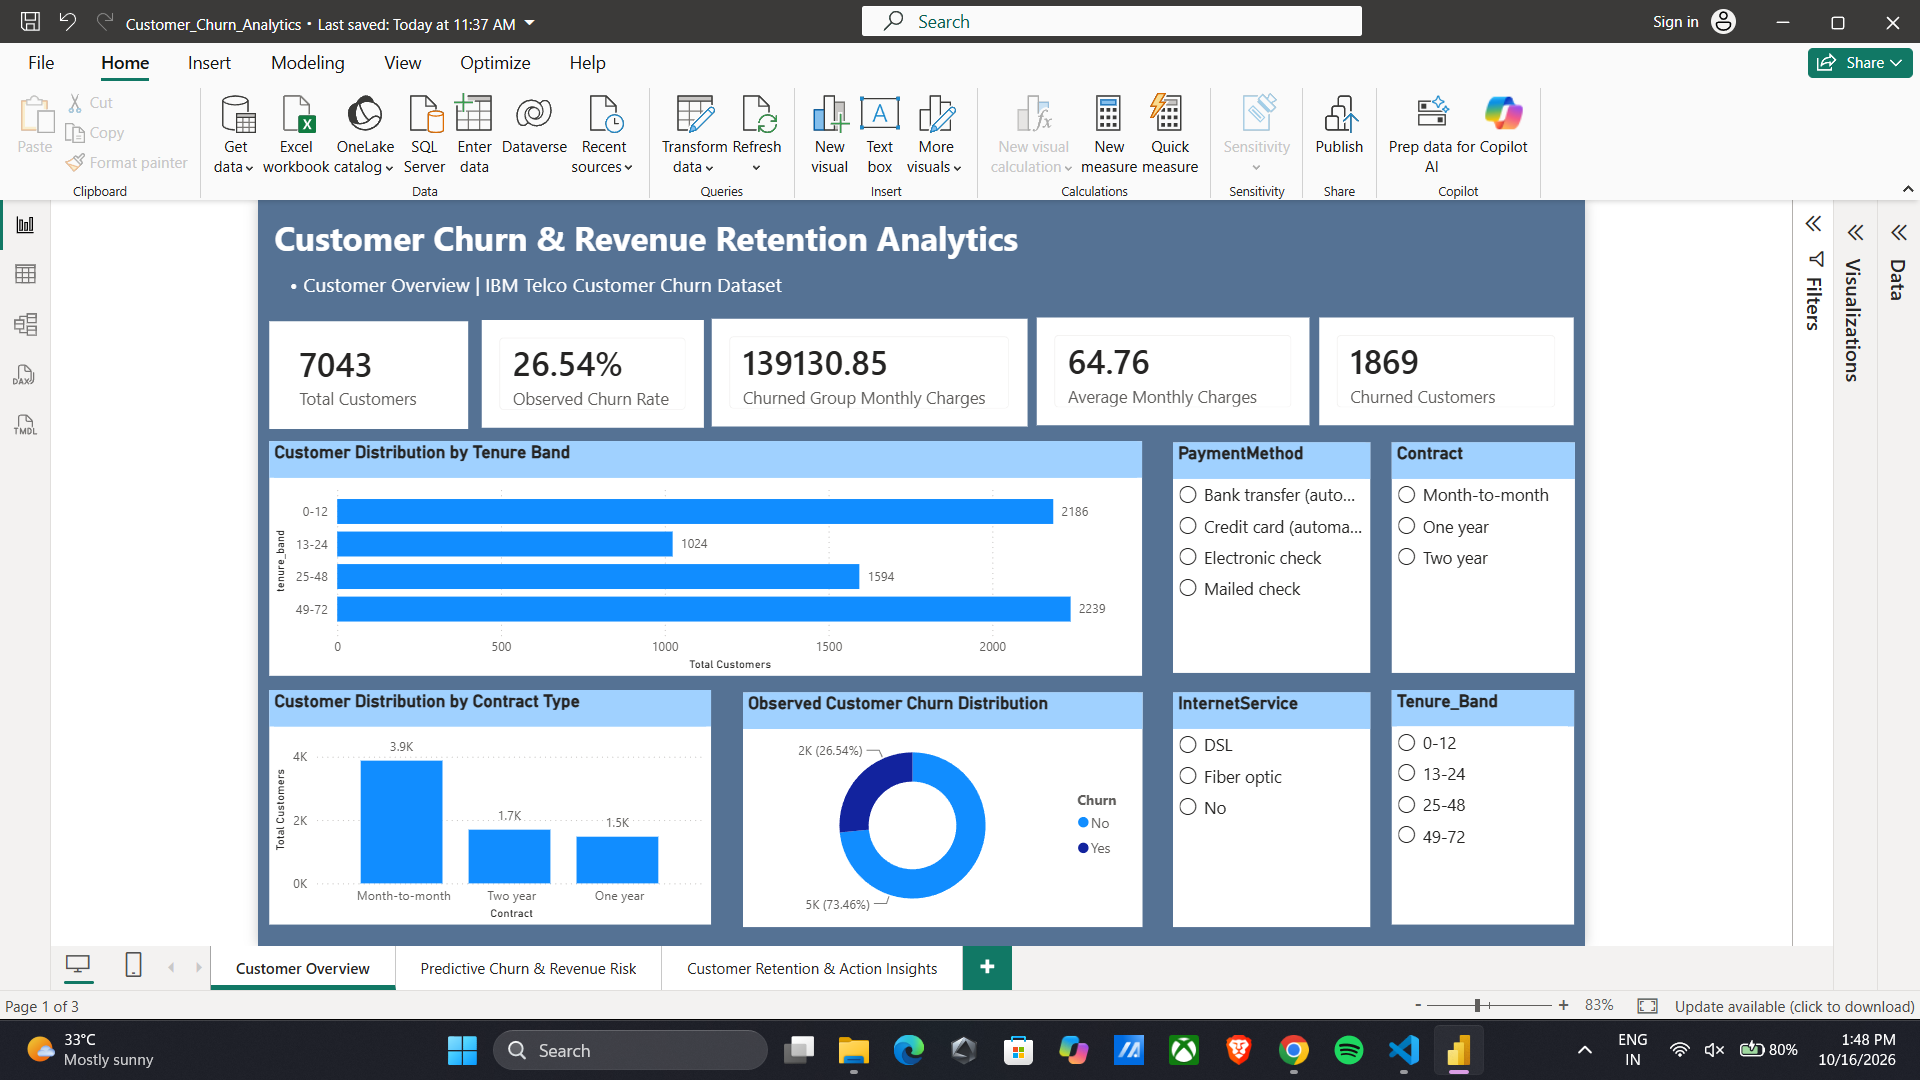

This screenshot's page, from the dashboard's own definition file:
{"tool":"powerbi","page":{"name":"Customer Overview","canvas":[1280,720],"ordinal":0},"visuals":[{"type":"cardVisual","fields":{"Data":["customers_clean.Observed Churned Customers"]},"box":[1024.3,113.4,245.6,104.3],"z":0},{"type":"cardVisual","fields":{"Data":["customers_clean.Observed Churn Rate"]},"box":[216,115.8,214.1,104.3],"z":1000},{"type":"cardVisual","fields":{"Data":["customers_clean.Average Monthly Charges"]},"box":[751.6,113.4,263.5,104.3],"z":2000},{"type":"cardVisual","fields":{"Data":["customers_clean.Churned Group Monthly Charges"]},"box":[437.9,114.6,304.6,104.3],"z":3000},{"type":"donutChart","title":"Observed Customer Churn Distribution","fields":{"Category":["customers_clean.Churn"],"Y":["customers_clean.Total Customers"]},"box":[467.9,474.8,385.6,226.4],"z":4000},{"type":"clusteredColumnChart","title":"Customer Distribution by Contract Type","fields":{"Y":["customers_clean.Total Customers"],"Category":["customers_clean.Contract"]},"box":[11,473.4,426.8,226.4],"z":5000},{"type":"clusteredBarChart","title":"Customer Distribution by Tenure Band","fields":{"Category":["customers_clean.tenure_band"],"Y":["customers_clean.Total Customers"]},"box":[11,233.3,842.5,226.4],"z":6000},{"type":"listSlicer","fields":{"Values":["customers_clean.Contract"]},"box":[1093.7,234.6,177,222.3],"z":7000},{"type":"listSlicer","fields":{"Values":["customers_clean.InternetService"]},"box":[883.7,474.8,190.7,226.4],"z":8000},{"type":"listSlicer","fields":{"Values":["customers_clean.PaymentMethod"]},"box":[883.7,234.6,190.7,222.3],"z":9000},{"type":"listSlicer","title":"Tenure_Band","fields":{"Values":["customers_clean.tenure_band"]},"box":[1093.7,473.4,175.6,226.4],"z":10000},{"type":"cardVisual","fields":{"Data":["customers_clean.Total Customers"]},"box":[10.9,117,192.1,104.3],"z":11000},{"type":"textbox","box":[10.9,9.7,1259.5,54.3],"z":12000},{"type":"textbox","box":[11.4,64.1,1258.6,41.3],"z":13000}]}

Visuals, with their boxes on the page's 1280x720 design canvas (x1, y1, x2, y2). These are canvas units, not pixel positions in the 1920x1080 screenshot, which may show the page scaled, cropped or inside an application window:
cardVisual - customers_clean.Observed Churned Customers: {"left": 1024, "top": 113, "right": 1270, "bottom": 218}
cardVisual - customers_clean.Observed Churn Rate: {"left": 216, "top": 116, "right": 430, "bottom": 220}
cardVisual - customers_clean.Average Monthly Charges: {"left": 752, "top": 113, "right": 1015, "bottom": 218}
cardVisual - customers_clean.Churned Group Monthly Charges: {"left": 438, "top": 115, "right": 742, "bottom": 219}
"Observed Customer Churn Distribution" donutChart: {"left": 468, "top": 475, "right": 854, "bottom": 701}
"Customer Distribution by Contract Type" clusteredColumnChart: {"left": 11, "top": 473, "right": 438, "bottom": 700}
"Customer Distribution by Tenure Band" clusteredBarChart: {"left": 11, "top": 233, "right": 854, "bottom": 460}
listSlicer - customers_clean.Contract: {"left": 1094, "top": 235, "right": 1271, "bottom": 457}
listSlicer - customers_clean.InternetService: {"left": 884, "top": 475, "right": 1074, "bottom": 701}
listSlicer - customers_clean.PaymentMethod: {"left": 884, "top": 235, "right": 1074, "bottom": 457}
"Tenure_Band" listSlicer: {"left": 1094, "top": 473, "right": 1269, "bottom": 700}
cardVisual - customers_clean.Total Customers: {"left": 11, "top": 117, "right": 203, "bottom": 221}
textbox: {"left": 11, "top": 10, "right": 1270, "bottom": 64}
textbox: {"left": 11, "top": 64, "right": 1270, "bottom": 105}
